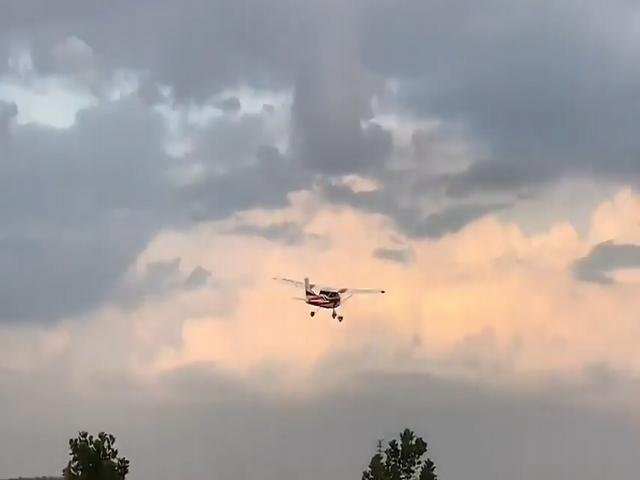plane: (279, 277, 386, 323)
